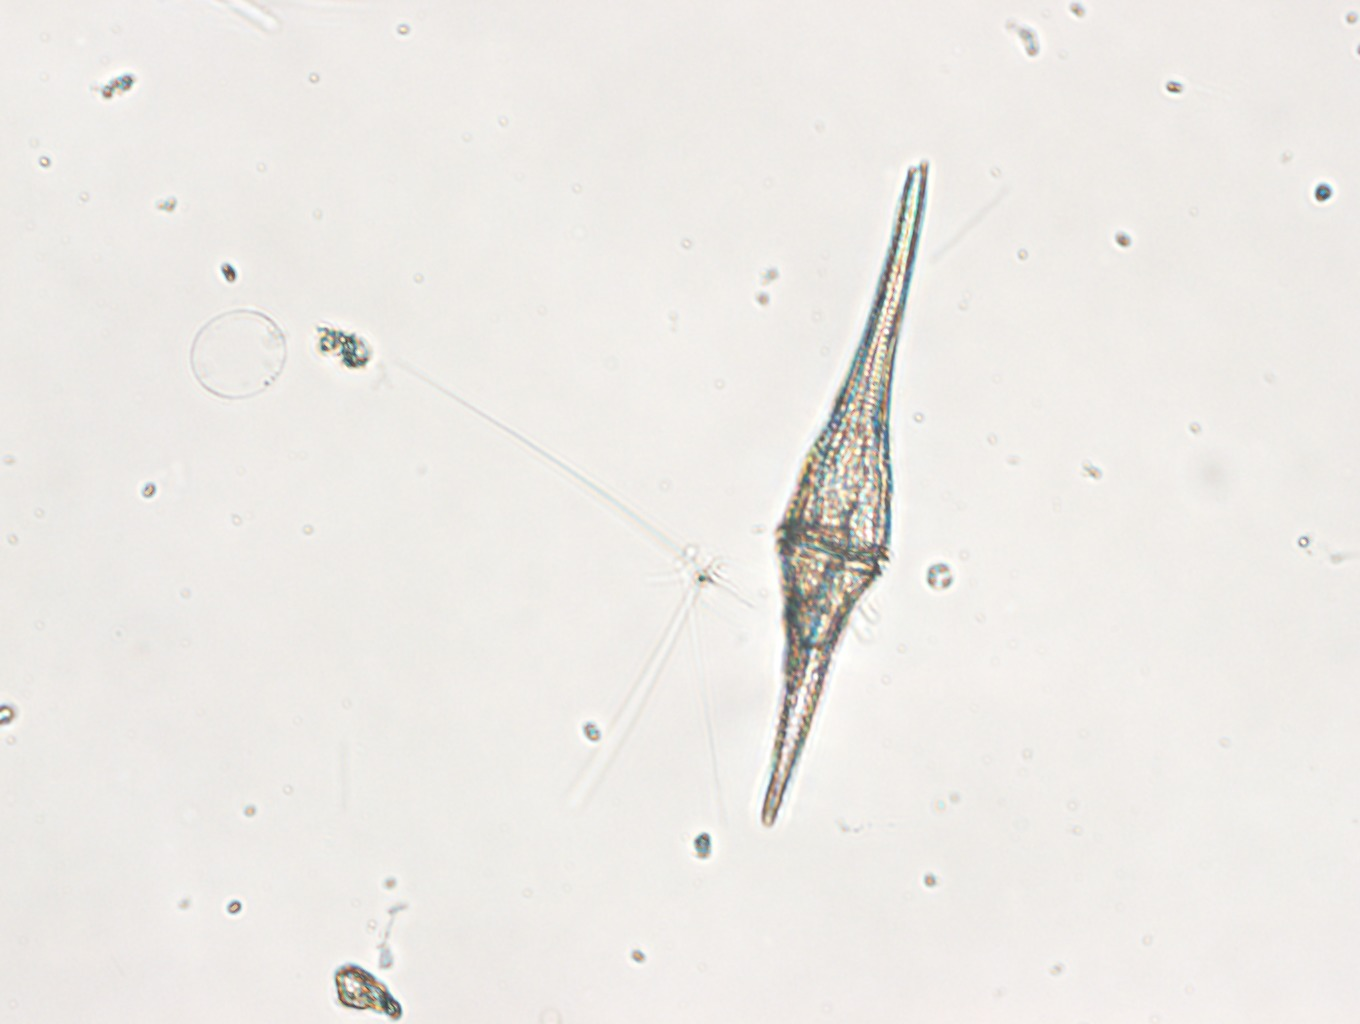ceratium furca: (758, 161, 932, 836)
